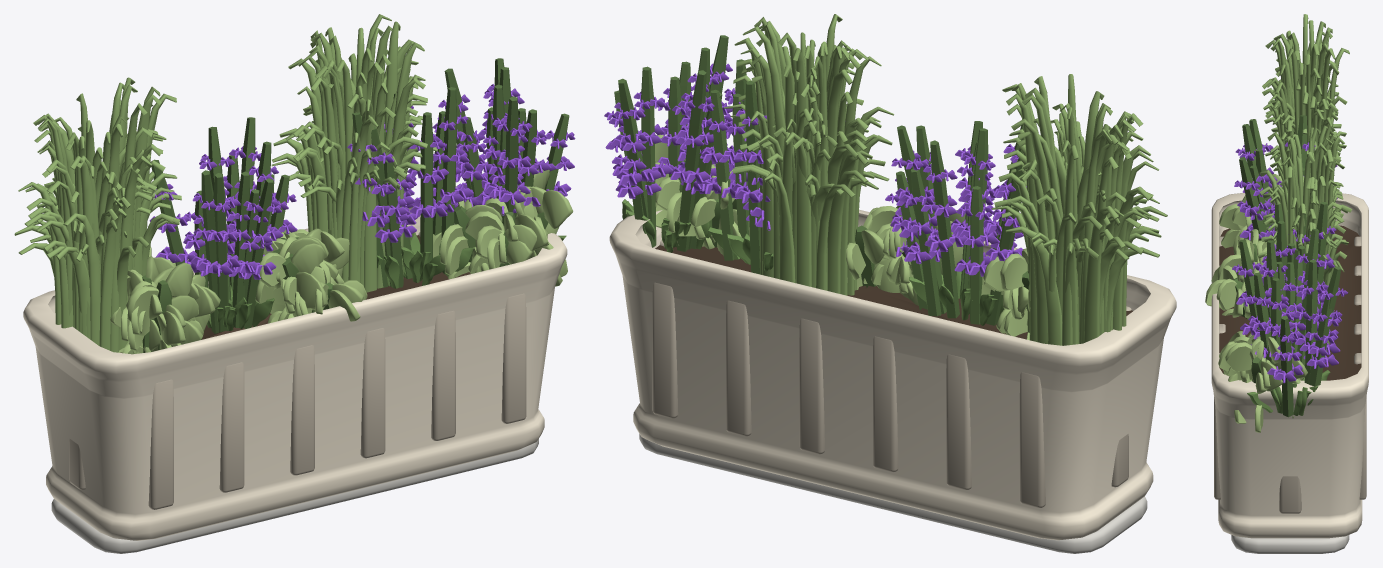
The model's file is jard_epis.glb.
3 views of the same model, side by side, from view 1: azimuth 30°, elevation 25°; view 2: azimuth 150°, elevation 25°; view 3: azimuth 270°, elevation 25° (orthographic). The views are drawn at different scales.
Visible parts, largest first — view 1: VRB_Pot_Creme, VRB_Feuille_Clair, VRB_Tige, VRB_Feuille_Tendre, VRB_Nervures, VRB_Fl_Violet, VRB_Embase, VRB_Feuille_Moyen, VRB_Terre; view 2: VRB_Pot_Creme, VRB_Feuille_Clair, VRB_Tige, VRB_Nervures, VRB_Fl_Violet, VRB_Feuille_Tendre, VRB_Embase, VRB_Feuille_Moyen, VRB_Terre; view 3: VRB_Pot_Creme, VRB_Feuille_Clair, VRB_Tige, VRB_Fl_Violet, VRB_Feuille_Tendre, VRB_Terre, VRB_Nervures, VRB_Embase, VRB_Feuille_Moyen.
Boxes of the visible parts, x1,y1,x2,y2 form: VRB_Pot_Creme: (23,205,567,540); VRB_Feuille_Clair: (14,14,437,352); VRB_Tige: (142,58,569,352); VRB_Feuille_Tendre: (110,169,573,354); VRB_Nervures: (69,232,526,509); VRB_Fl_Violet: (149,84,575,279); VRB_Embase: (51,439,538,553); VRB_Feuille_Moyen: (207,232,566,331); VRB_Terre: (120,235,470,352); VRB_Pot_Creme: (609,209,1176,540); VRB_Feuille_Clair: (724,14,1167,345); VRB_Tige: (614,35,1036,325); VRB_Nervures: (652,240,1131,507); VRB_Fl_Violet: (604,63,1026,276); VRB_Feuille_Tendre: (641,134,1030,340); VRB_Embase: (639,434,1147,553); VRB_Feuille_Moyen: (622,199,1004,325); VRB_Terre: (655,245,1132,339); VRB_Pot_Creme: (1211,193,1368,538); VRB_Feuille_Clair: (1258,14,1352,351); VRB_Tige: (1232,115,1341,417); VRB_Fl_Violet: (1232,142,1347,383); VRB_Feuille_Tendre: (1205,174,1307,432); VRB_Terre: (1219,225,1361,380); VRB_Nervures: (1214,236,1366,513); VRB_Embase: (1231,535,1349,553); VRB_Feuille_Moyen: (1247,370,1330,415).
Size of the model in its own units: 1.36 by 1.01 by 0.4168.
